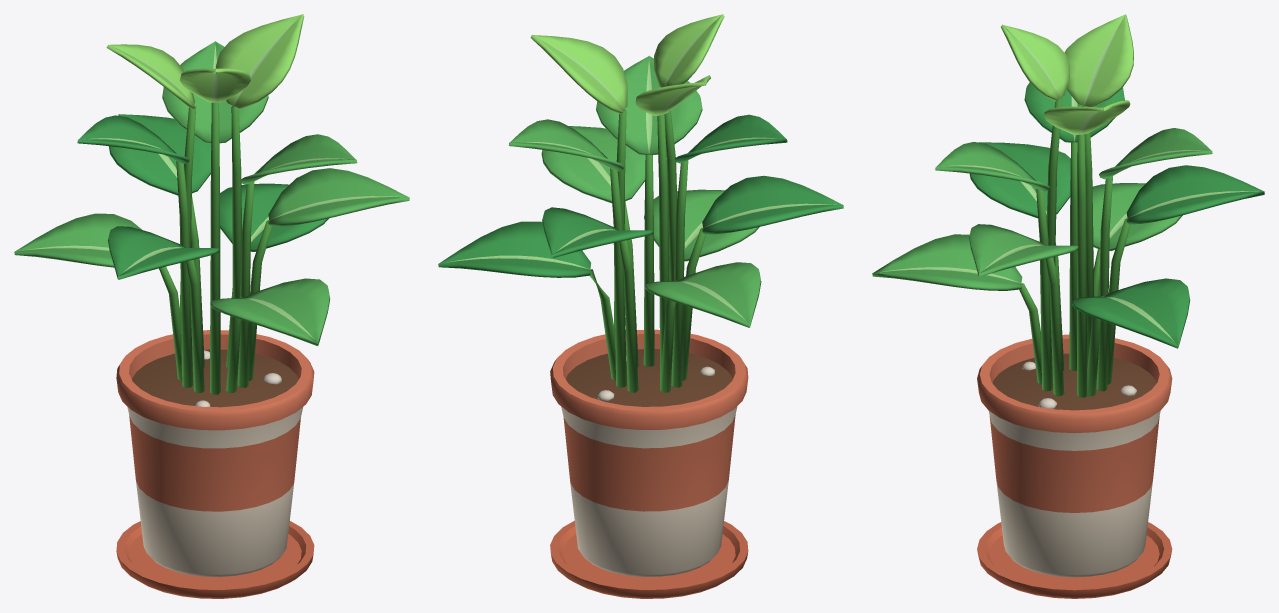
The model's file is planta-interior.glb.
The picture shows the model from 3 angles, left to right: view 1: azimuth 30°, elevation 25°; view 2: azimuth 150°, elevation 25°; view 3: azimuth 270°, elevation 25°; orthographic projection.
Visible parts, largest first — view 1: folhas, vaso, terra; view 2: folhas, vaso, terra; view 3: folhas, vaso, terra.
Boxes of the visible parts, bbox=[...] form: folhas: bbox=[14, 14, 409, 394]; vaso: bbox=[116, 330, 314, 598]; terra: bbox=[132, 349, 298, 407]; folhas: bbox=[438, 14, 843, 392]; vaso: bbox=[550, 329, 748, 598]; terra: bbox=[566, 349, 732, 406]; folhas: bbox=[872, 14, 1264, 397]; vaso: bbox=[977, 334, 1172, 598]; terra: bbox=[992, 353, 1156, 410].
Size of the model in its own units: 0.7838 by 1.28 by 0.8762.
